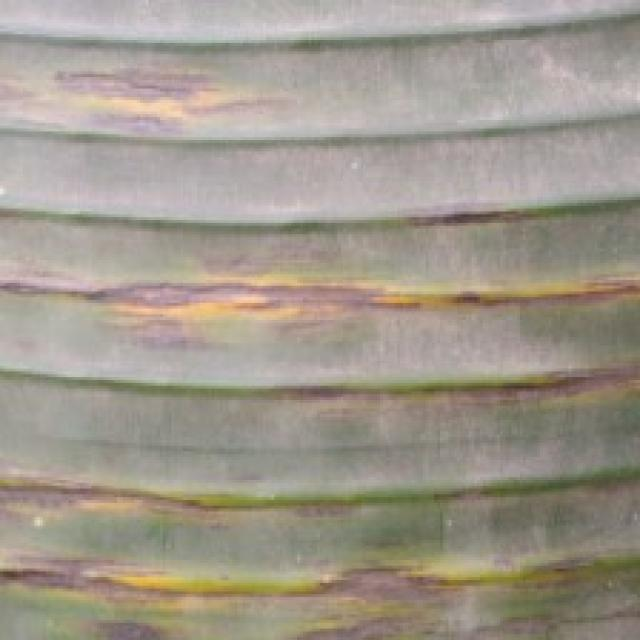Early_leaf_spot: (0, 214, 640, 354), (0, 520, 640, 640), (0, 37, 309, 149), (0, 432, 270, 550), (288, 351, 640, 439)
